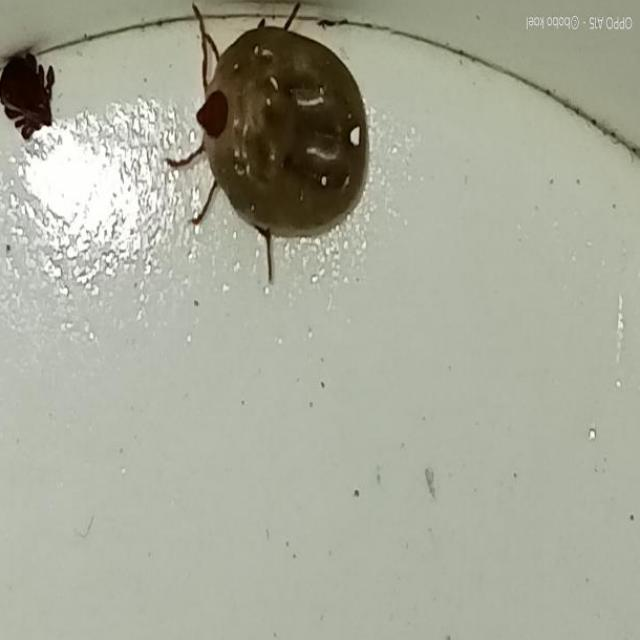Rhipicephalus Sanguineus-F-Fed: (167, 0, 371, 285)
